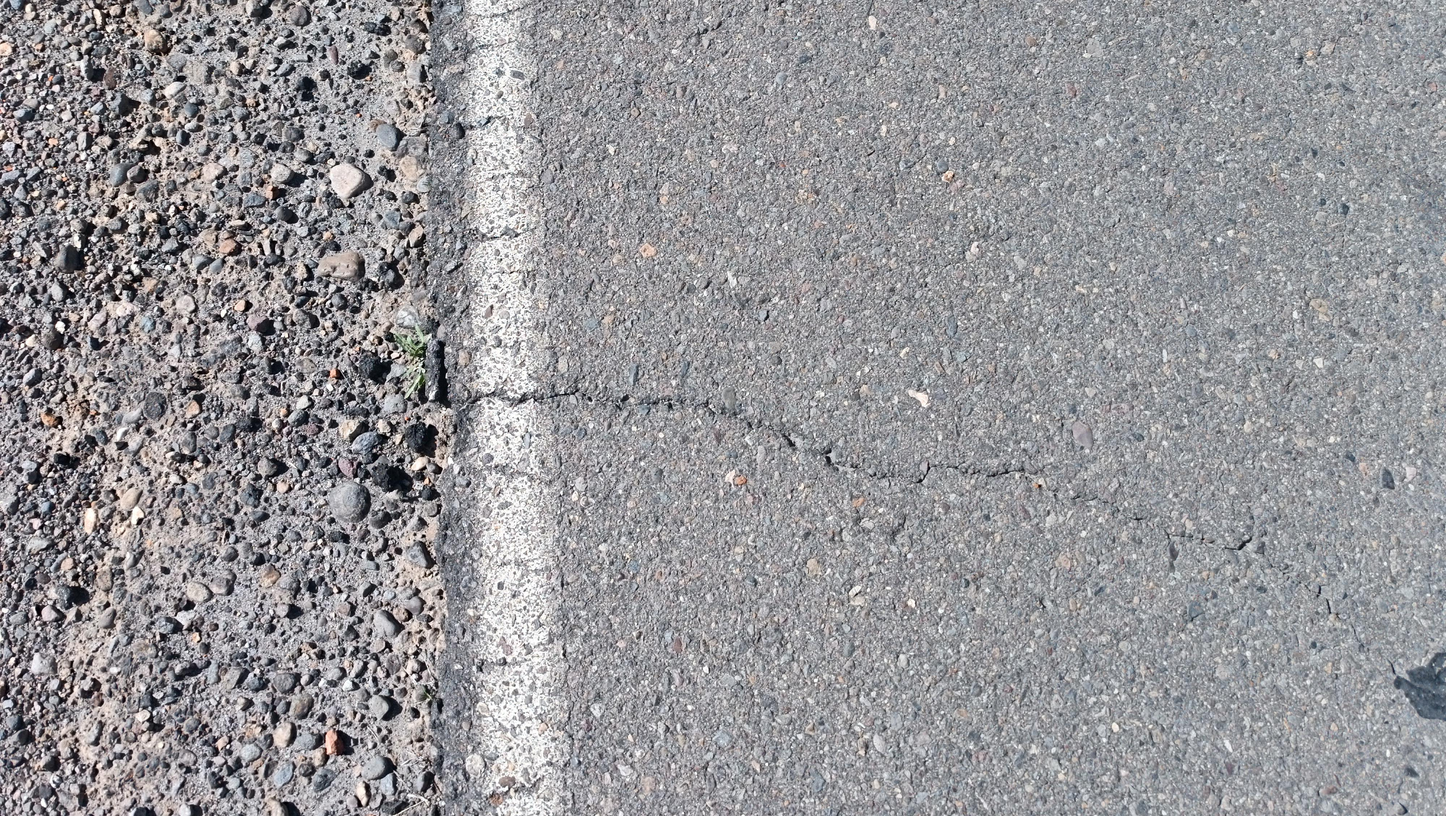GRIETA: (466, 387, 1265, 557)
